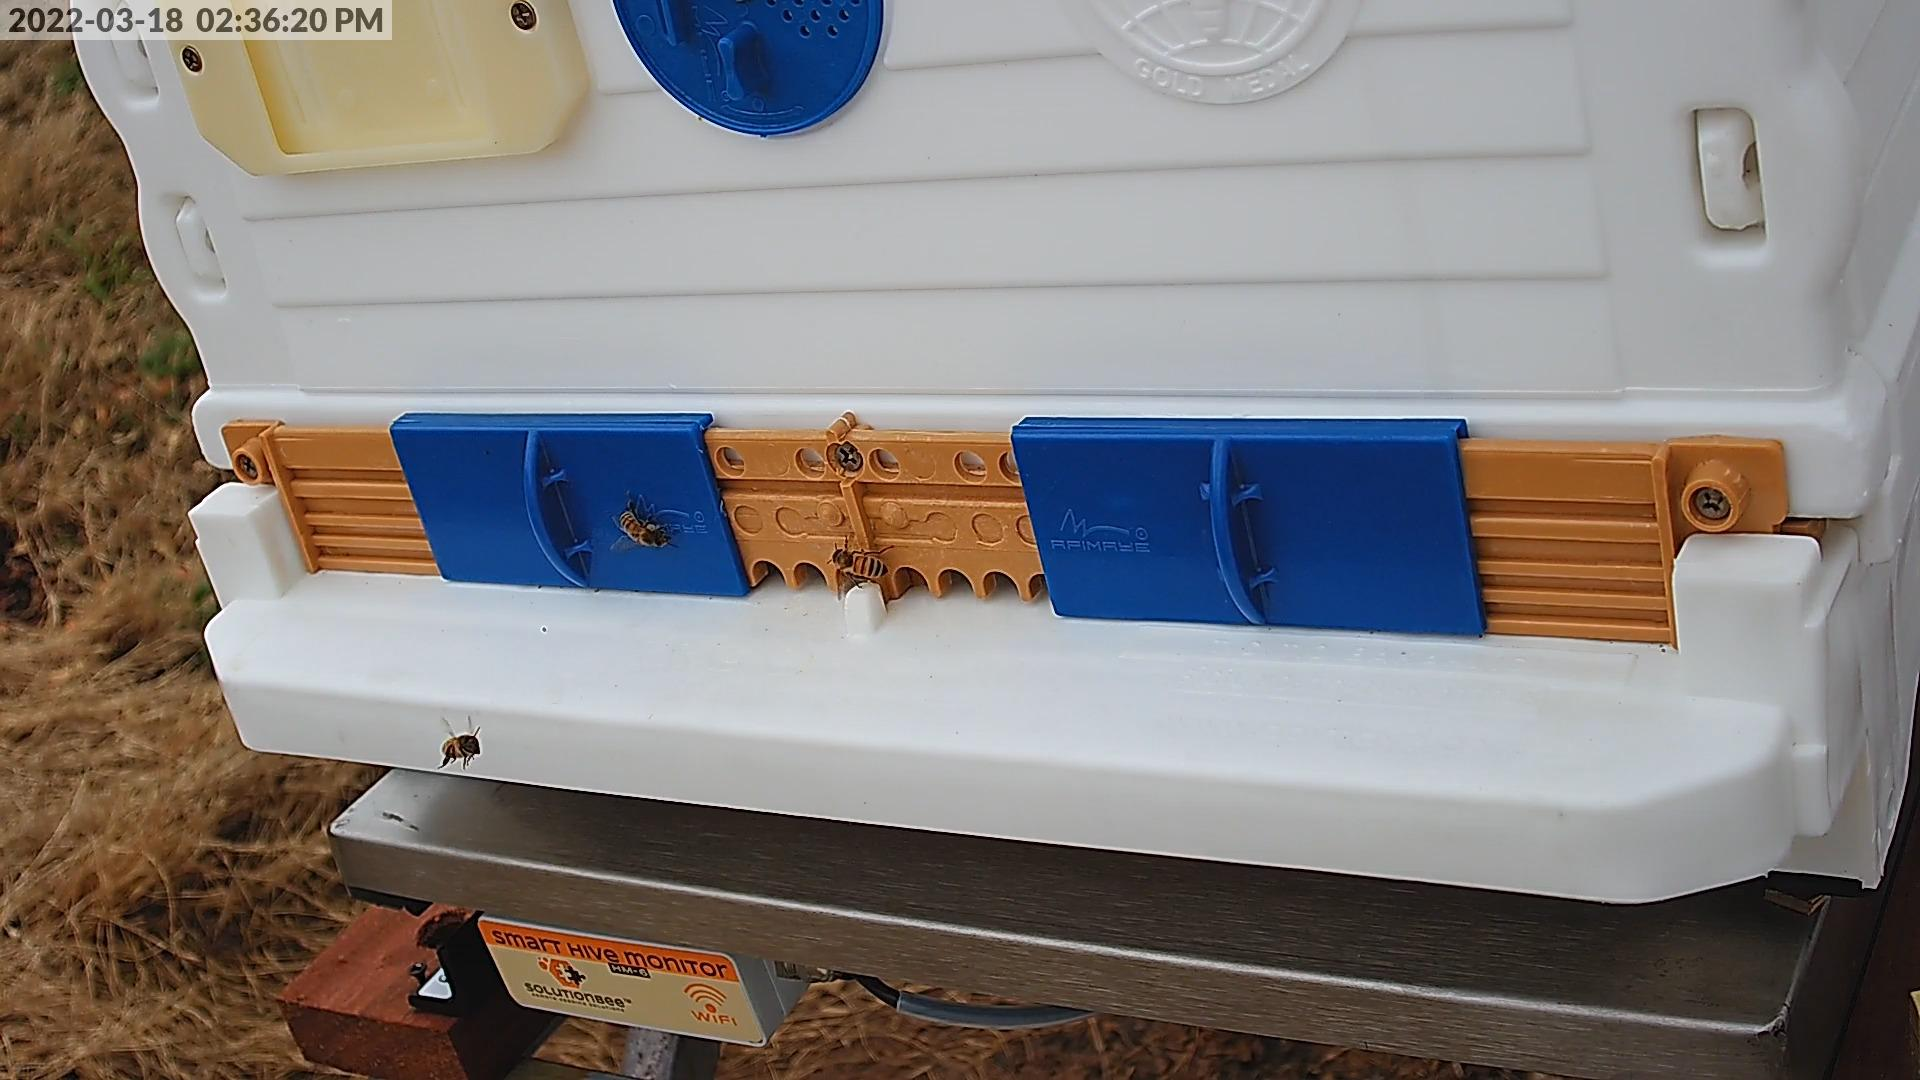bee: (831, 549, 886, 579), (443, 732, 480, 758)
pollenbee: (618, 513, 669, 546)
